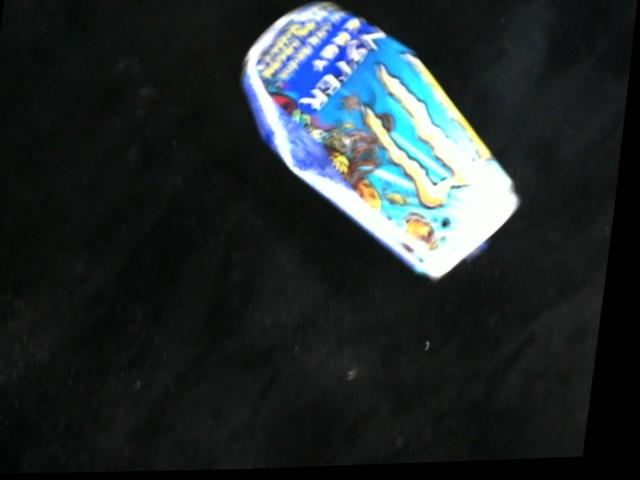can: (237, 0, 535, 290)
